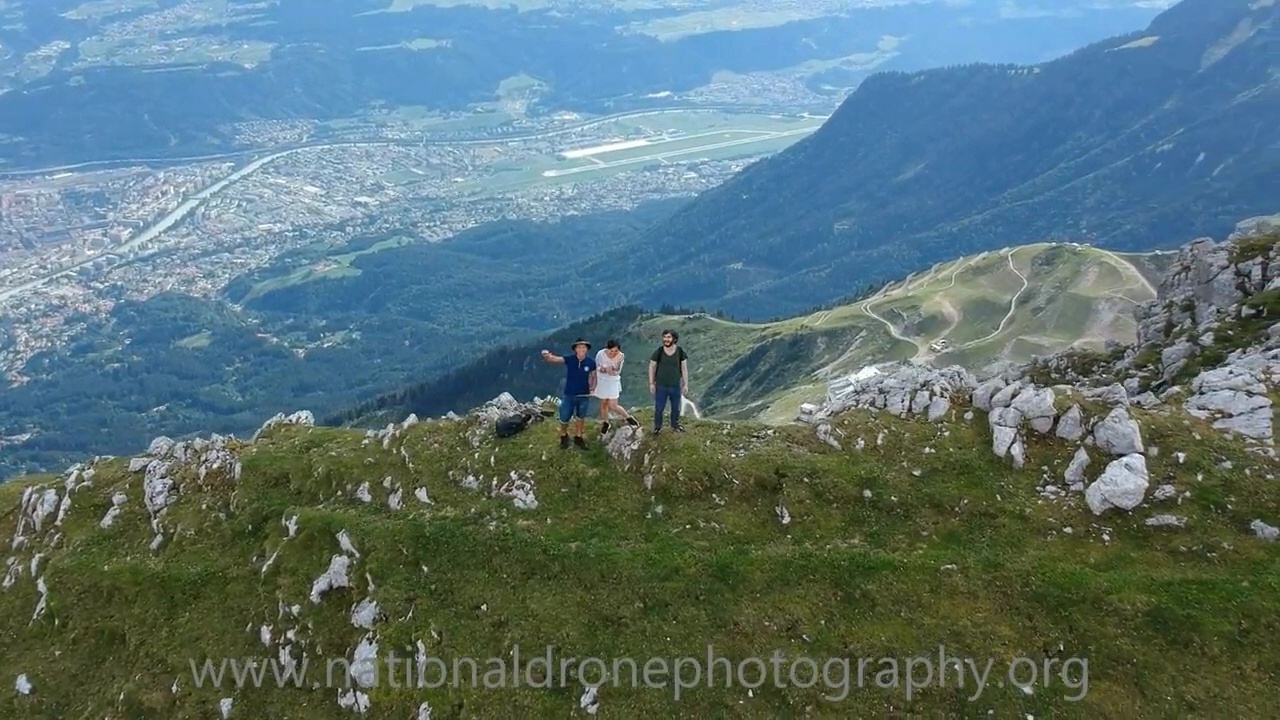insan: (540, 336, 594, 452), (647, 328, 691, 429), (593, 338, 637, 432)
